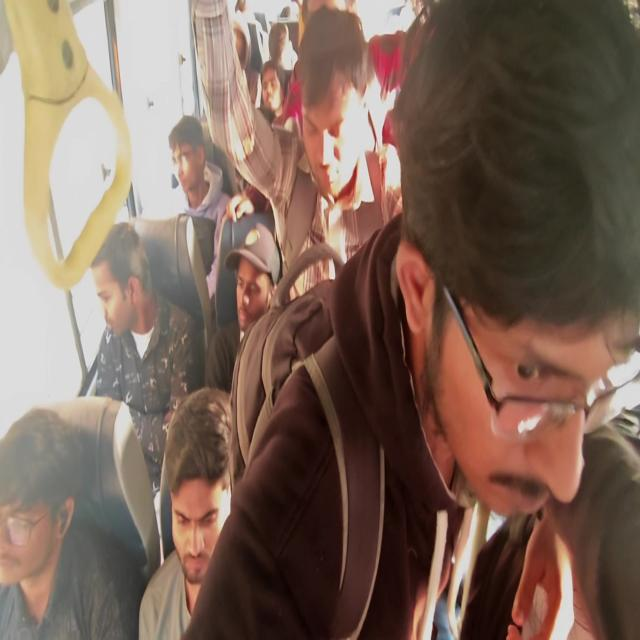person: (425, 107, 640, 640), (0, 427, 108, 640), (71, 196, 188, 347), (158, 401, 237, 624), (307, 14, 394, 175), (164, 117, 218, 221), (223, 249, 270, 338), (260, 68, 294, 145), (223, 18, 257, 80), (270, 21, 296, 73)
